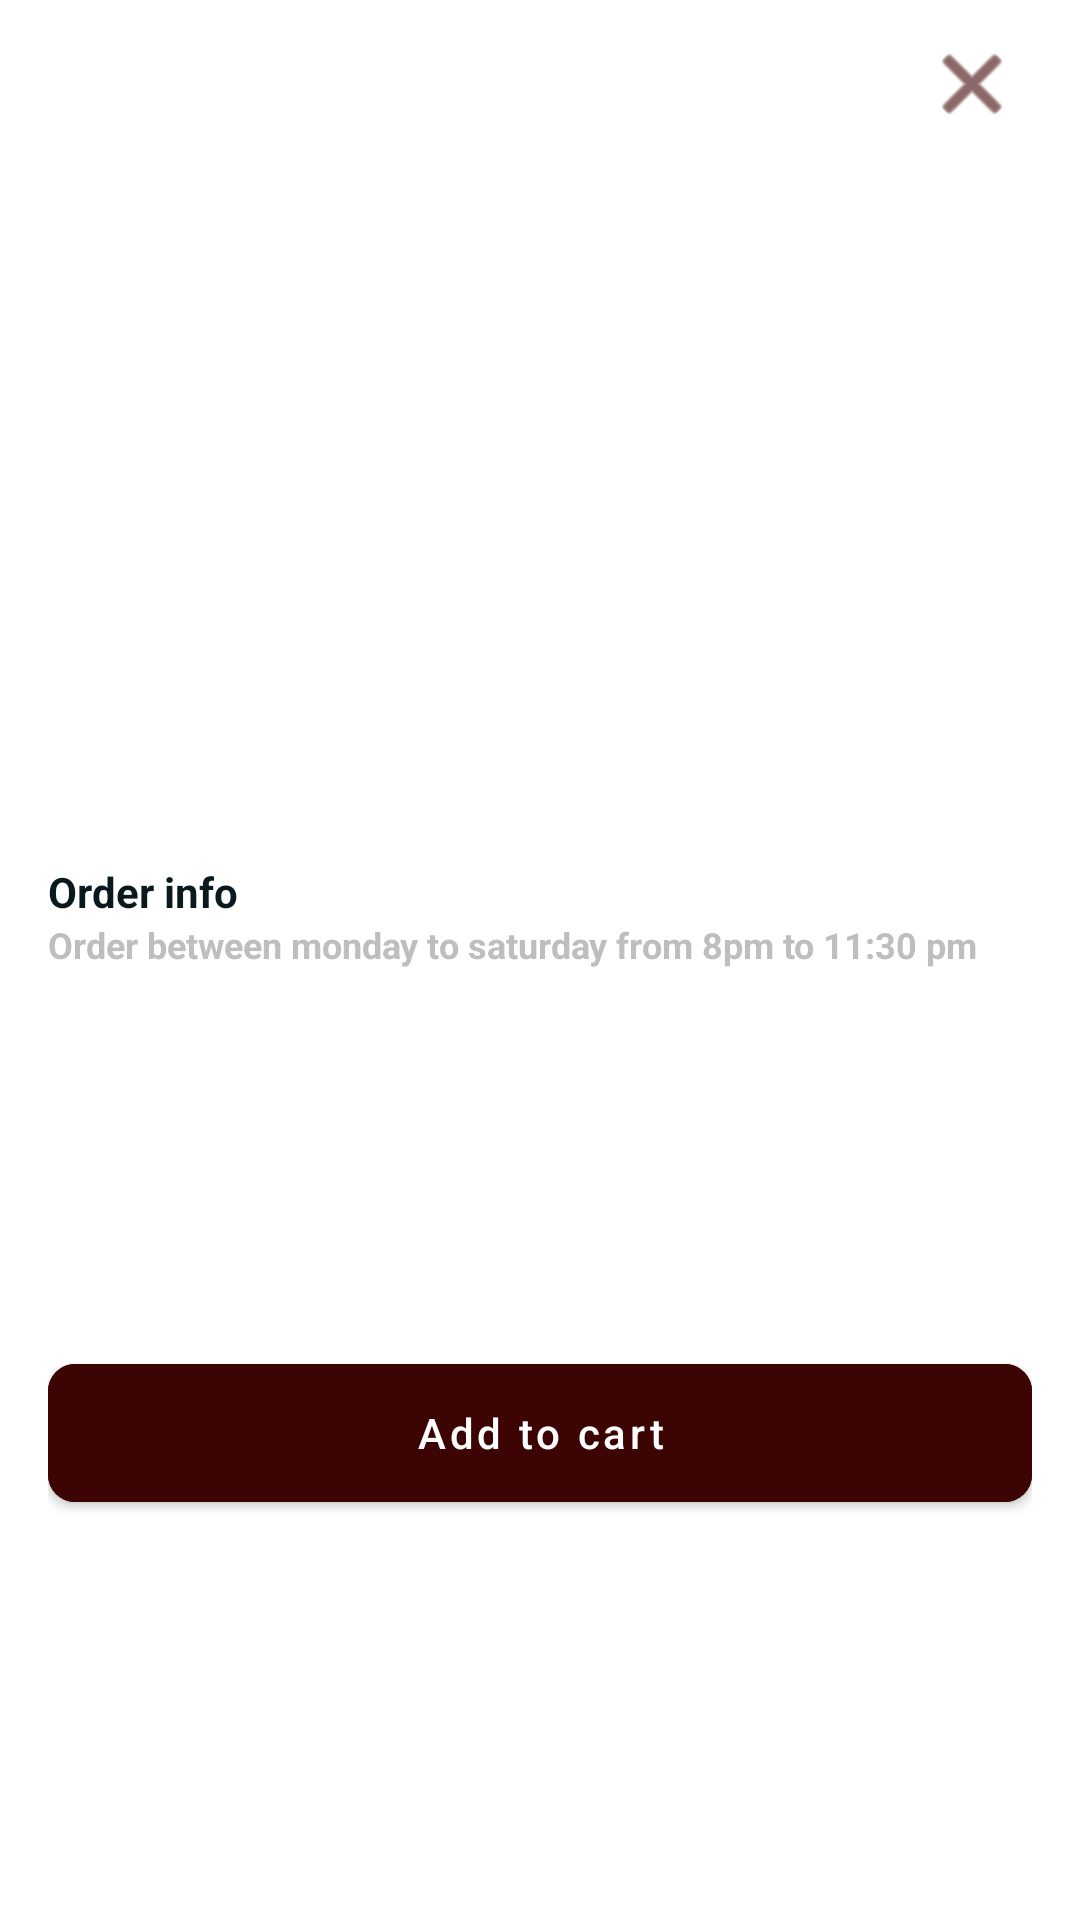

Icon click points for this 1080 x 1920 phone screenshot, format point (x, y):
close clear cancel: point (972, 84)
